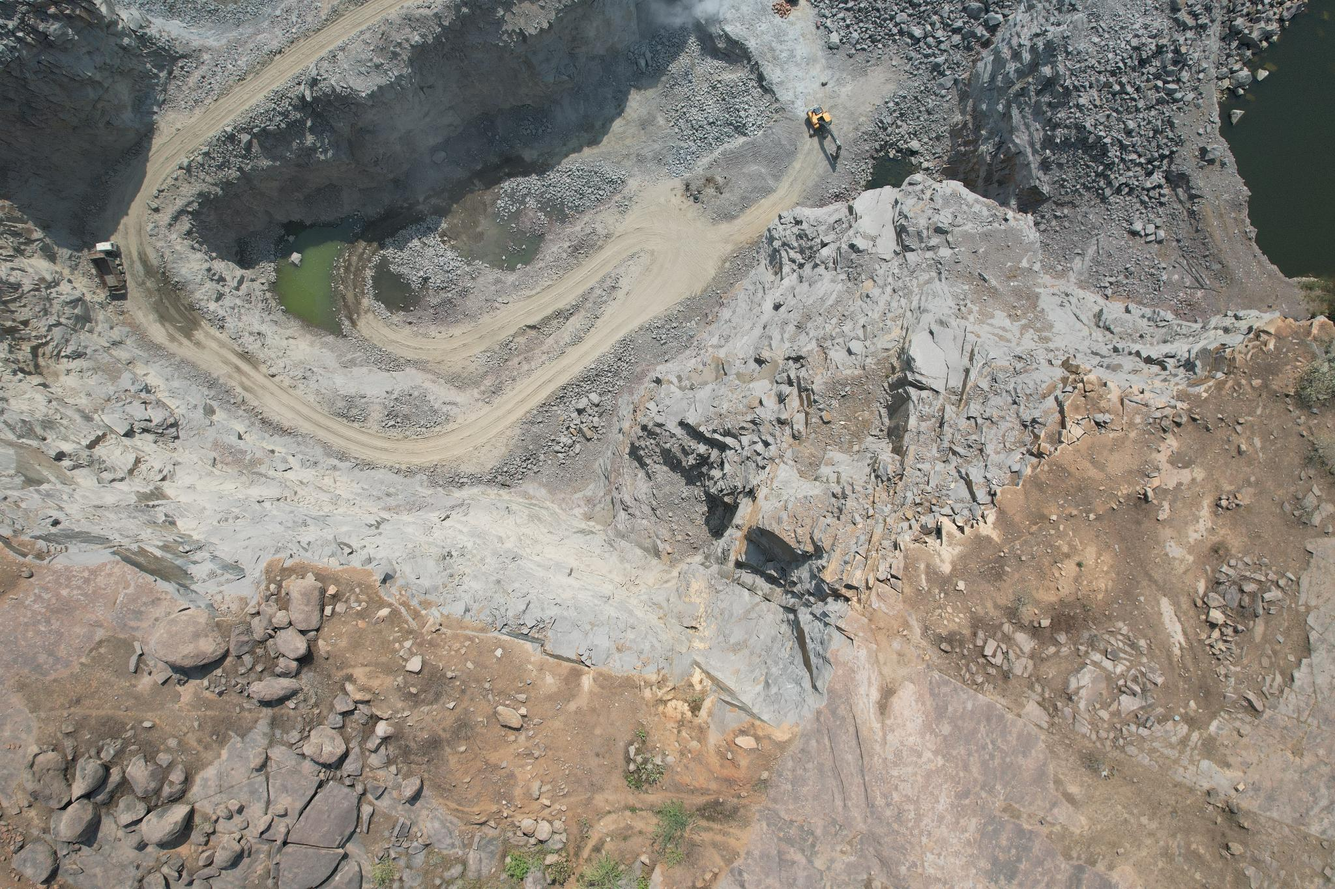benches: (120, 0, 584, 464), (223, 140, 813, 464)
excavator: (803, 95, 849, 161)
truck: (81, 222, 132, 310)
